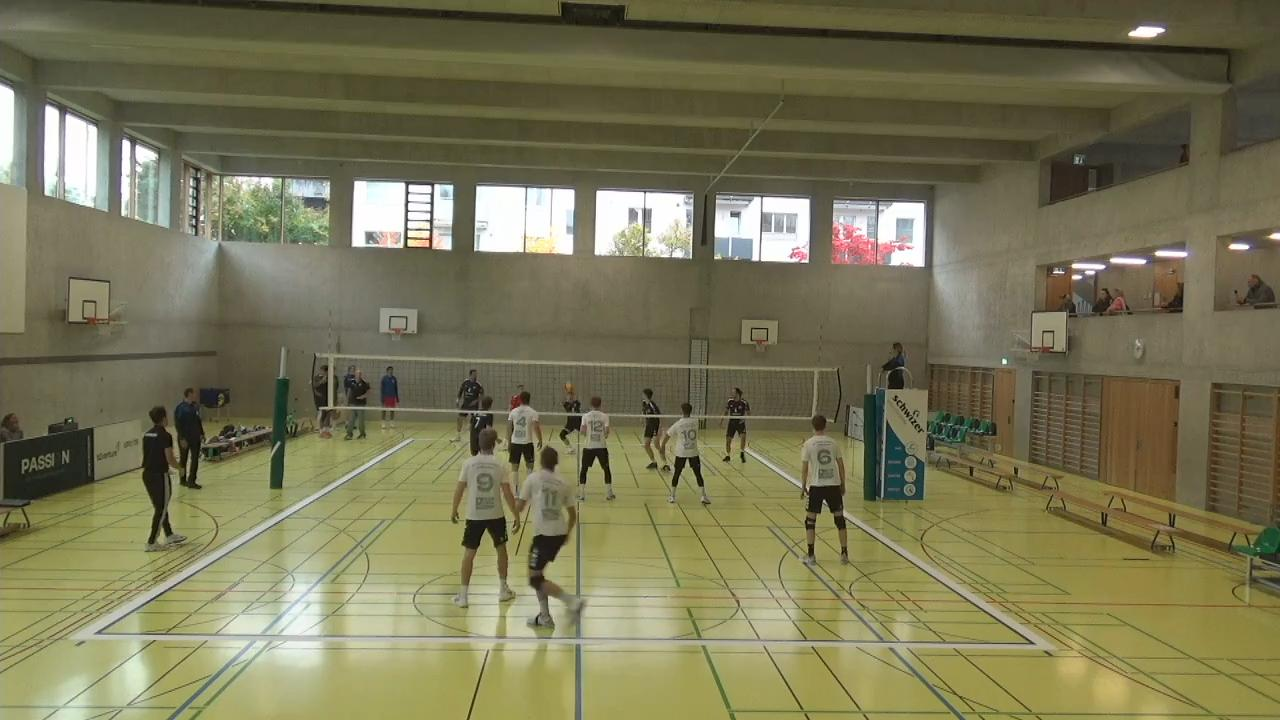Player: (450, 423, 518, 606), (520, 444, 581, 628), (799, 412, 851, 565), (662, 405, 710, 508), (575, 394, 620, 501), (502, 390, 538, 500), (638, 387, 665, 475), (456, 369, 484, 452), (722, 385, 750, 465)
Receive: (558, 383, 582, 453)
ball: (560, 379, 574, 391)
